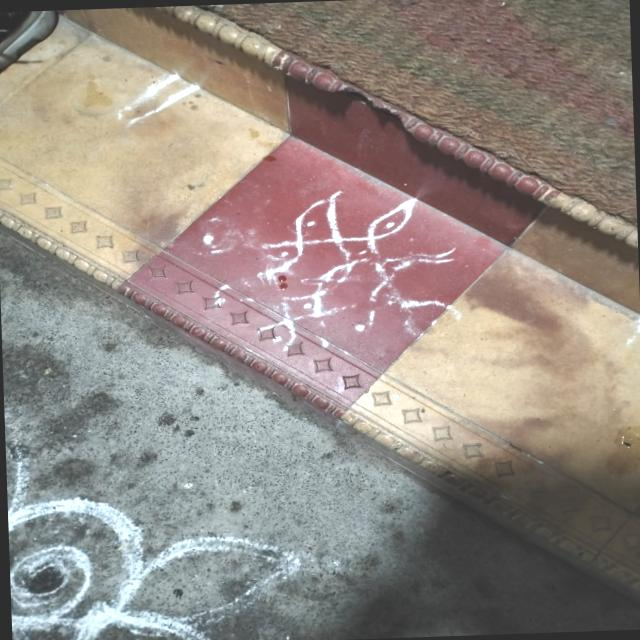rangoli: (160, 146, 476, 390)
